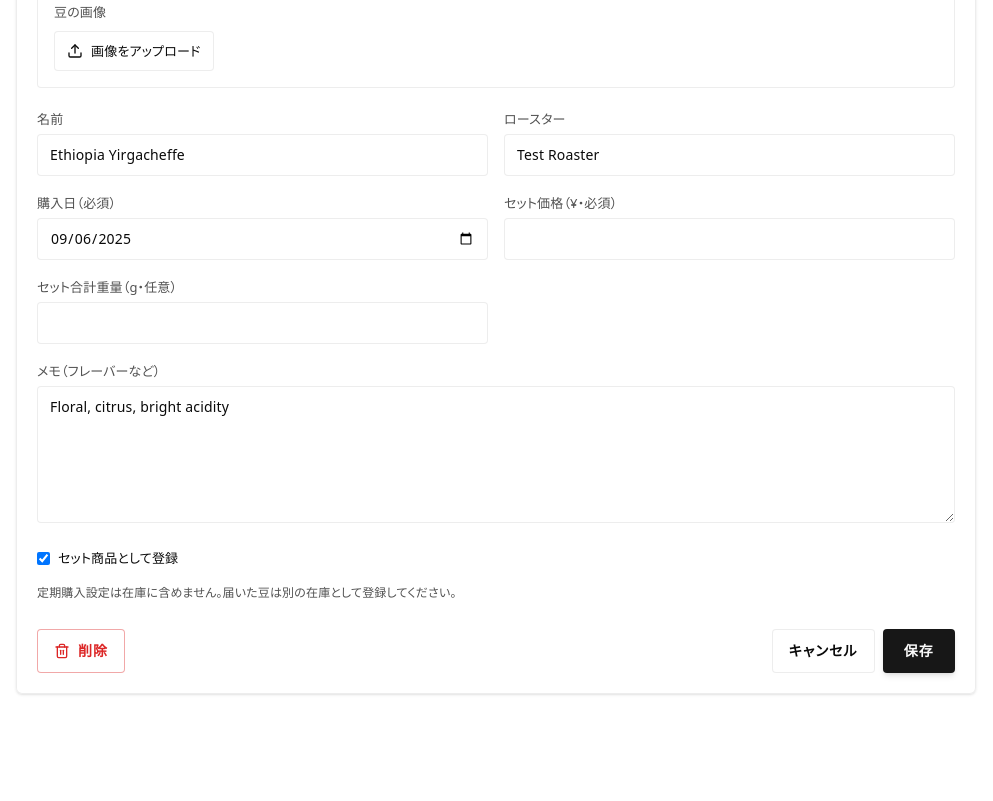
Test: EditBagPage › should show fields again when set product checkbox is unchecked in edit
(page scrolled)
Expected: the field labelled "焙煎日（任意・到着後に入力）" is not shown
Expected: the field labelled "プロセス" is not shown
Uncheck the checkbox
Click the checkbox labelled "セット商品として登録" at (44,558), box [37,552,50,565]
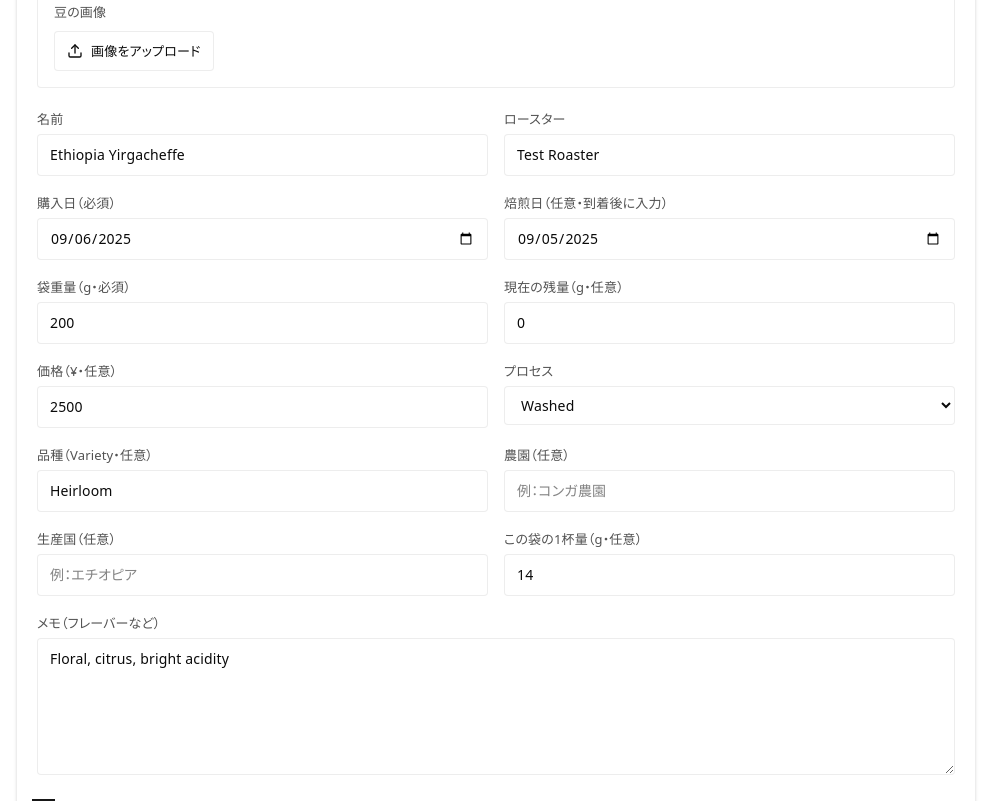
Expected: the date field labelled "焙煎日（任意・到着後に入力）" is shown, [504,218,955,260]
Expected: the dropdown labelled "プロセス" is shown, [504,386,955,425]
Expected: the field labelled "品種（Variety・任意）" is shown, [37,470,488,512]
